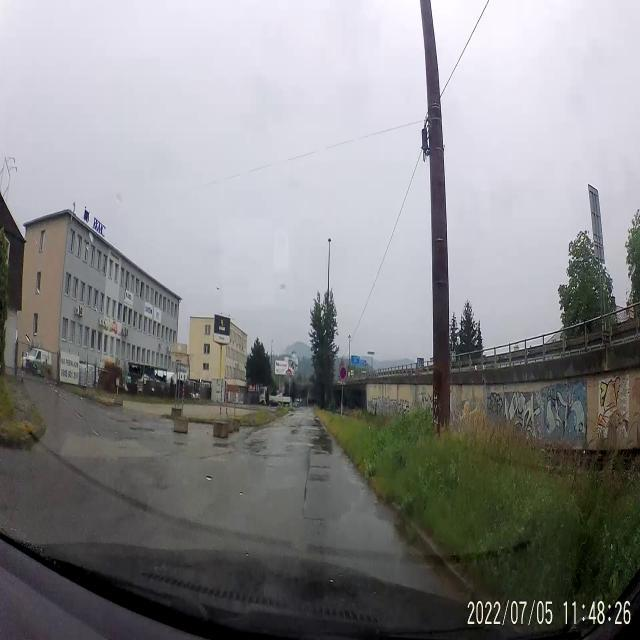Pothole: (301, 463, 310, 526), (246, 434, 268, 456), (202, 451, 230, 466), (130, 420, 154, 436), (171, 437, 186, 449), (290, 425, 300, 440)
